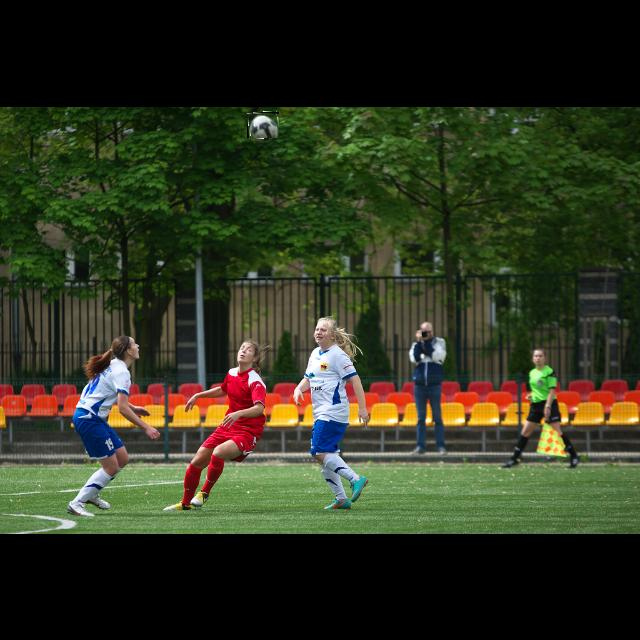Football: (247, 112, 279, 138)
